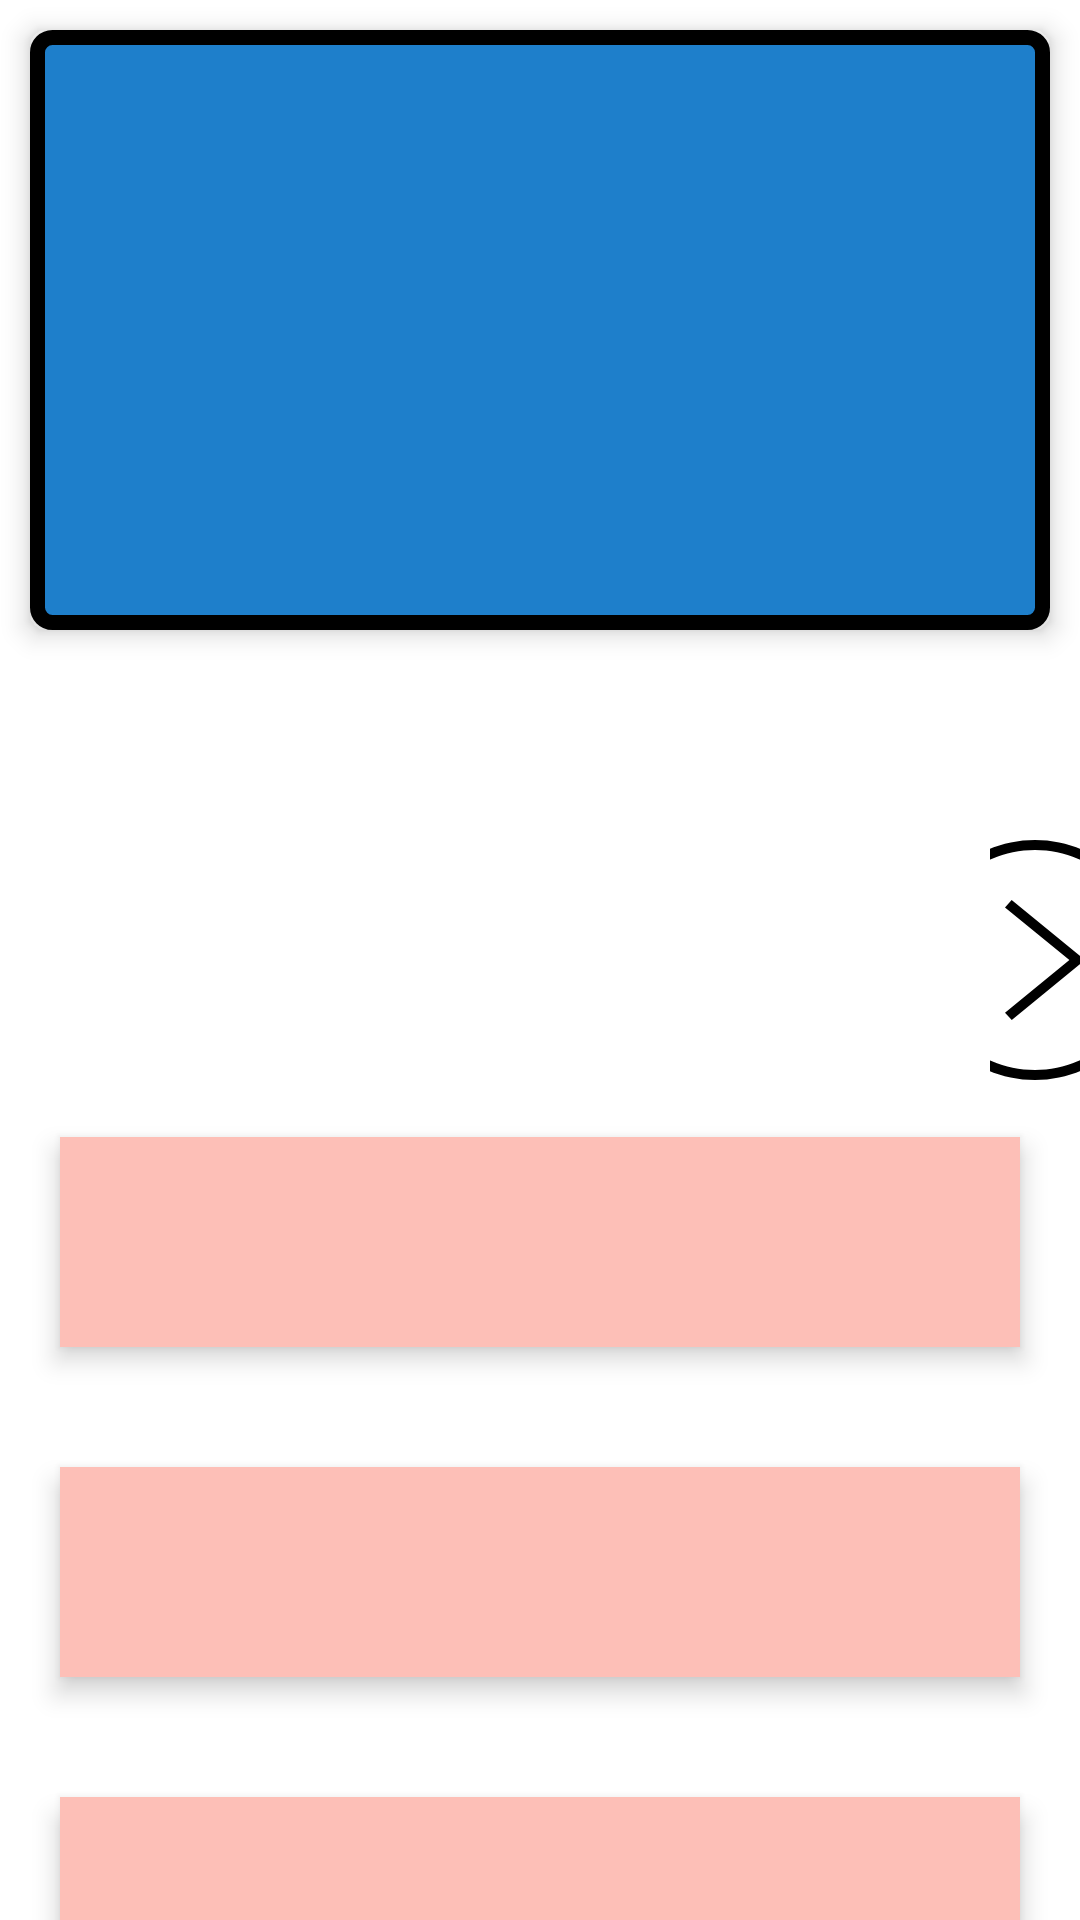

Icon bounding boxes for this 1080x1920 phone screenshot, format (x1=x1, y1=y1, x2=x2, y2=y2):
moveto: (x1=990, y1=840, x2=1080, y2=1080)
